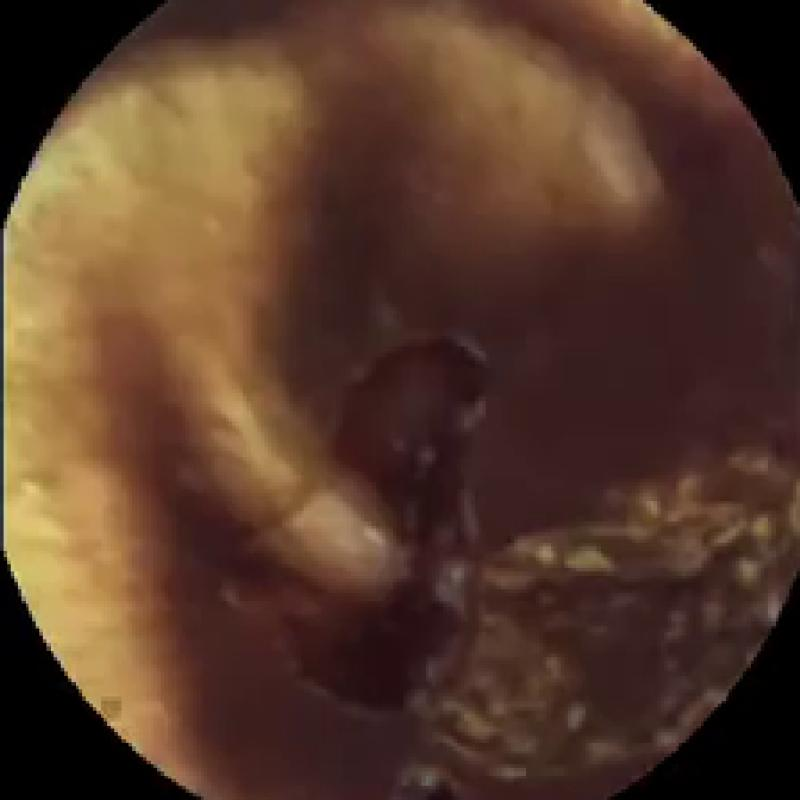bleeding: (243, 307, 489, 722)
